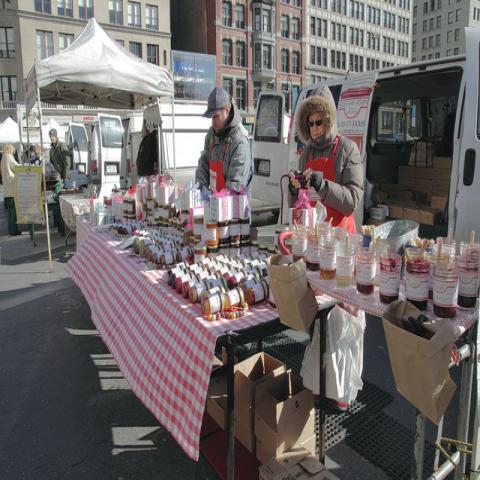car: (250, 88, 315, 216), (92, 115, 126, 201)
truck: (287, 25, 479, 255), (145, 92, 290, 213), (67, 122, 101, 186)
